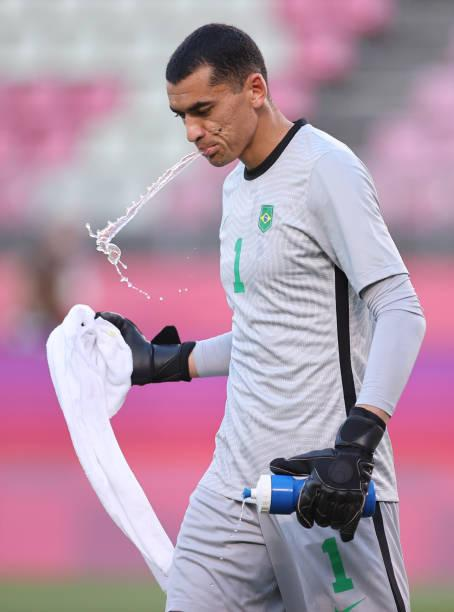Spitting: (102, 27, 307, 222)
